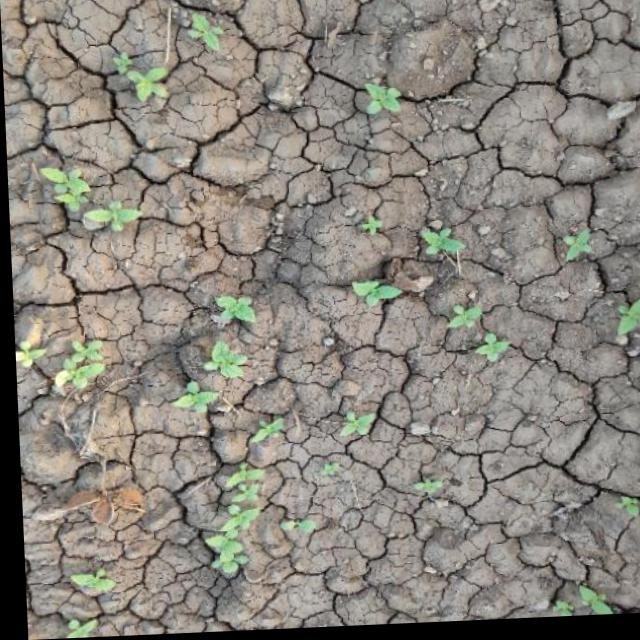crop: (194, 464, 266, 592), (36, 159, 144, 239), (190, 284, 259, 385), (44, 327, 110, 409), (440, 303, 511, 369), (106, 52, 172, 108), (341, 275, 402, 316), (411, 220, 465, 266), (555, 228, 598, 272), (360, 81, 403, 122), (330, 407, 376, 445)
